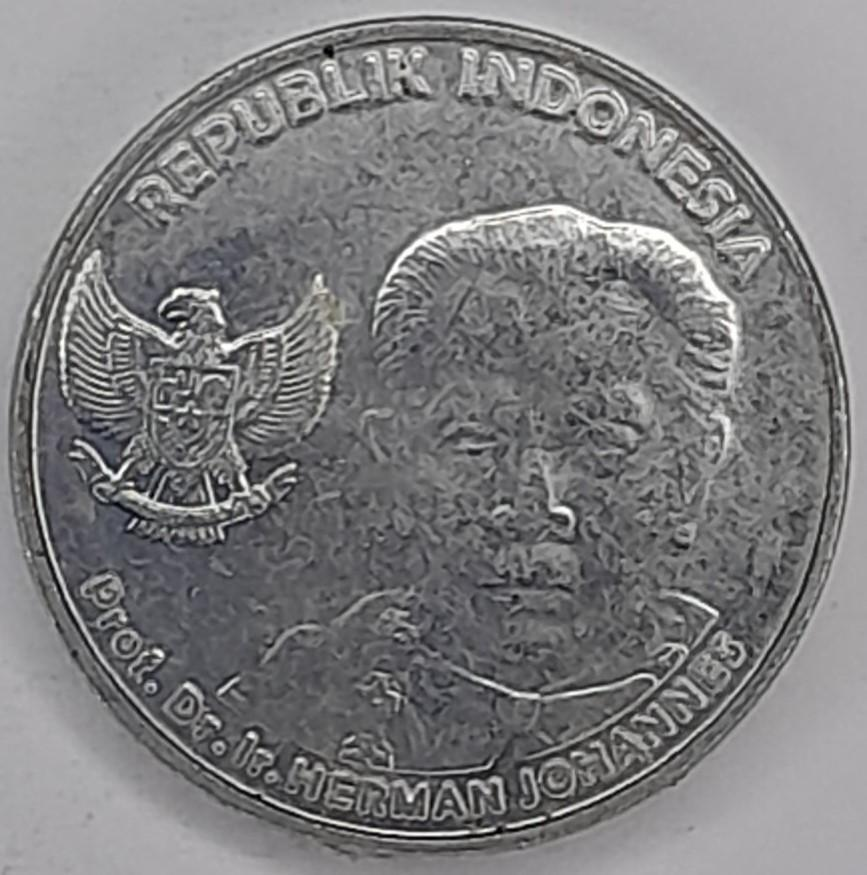coin_100_e2016: (2, 8, 857, 859)
